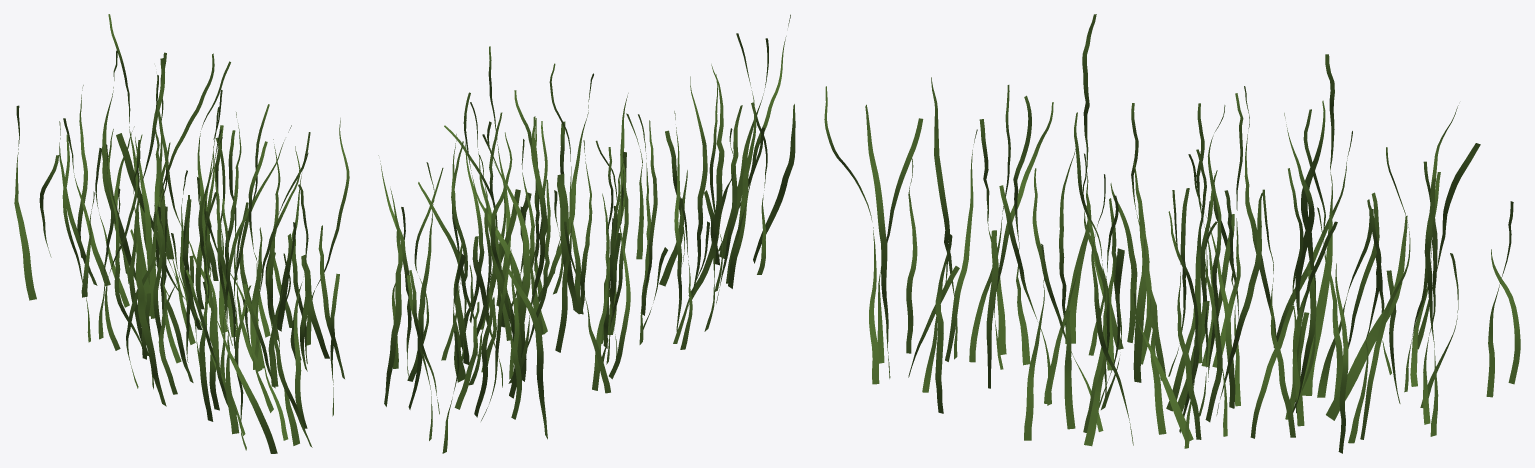
The model's file is plant_swamp_kelp_long_D_light.fbx.
3 views of the same model, side by side, from view 1: azimuth 30°, elevation 25°; view 2: azimuth 150°, elevation 25°; view 3: azimuth 270°, elevation 25° (orthographic). The views are drawn at different scales.
Visible parts, largest first — view 1: plant_swamp_kelp_long_D_light; view 2: plant_swamp_kelp_long_D_light; view 3: plant_swamp_kelp_long_D_light.
Part boxes in pixels (x1,y1,x2,y2): plant_swamp_kelp_long_D_light: [14, 14, 349, 453]; plant_swamp_kelp_long_D_light: [378, 14, 795, 453]; plant_swamp_kelp_long_D_light: [824, 14, 1520, 453].
Bounding box in the file's own units: 304 × 356 × 690.
